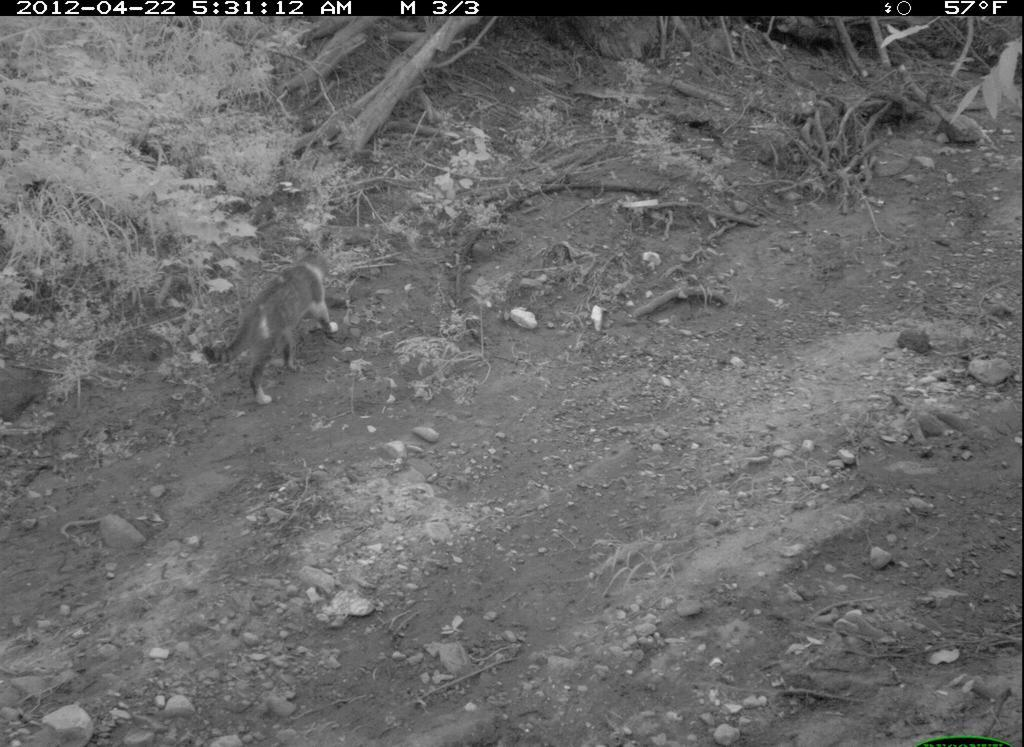cat: (194, 242, 350, 414)
